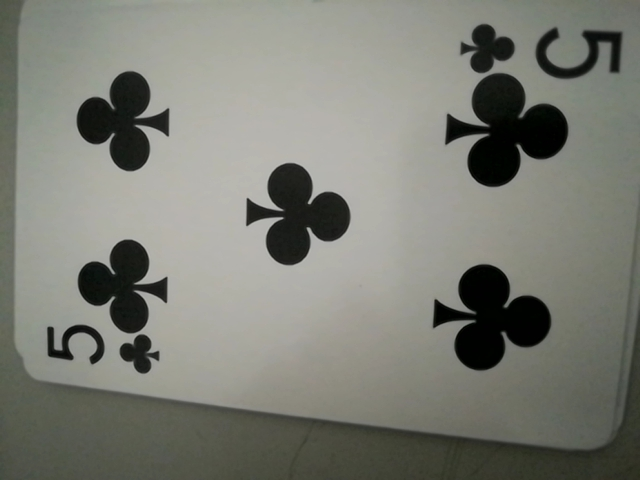mh 5: (457, 15, 619, 82), (35, 322, 166, 384)
